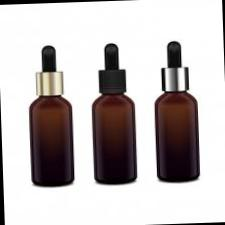glass: (145, 29, 209, 199), (86, 37, 143, 190)
